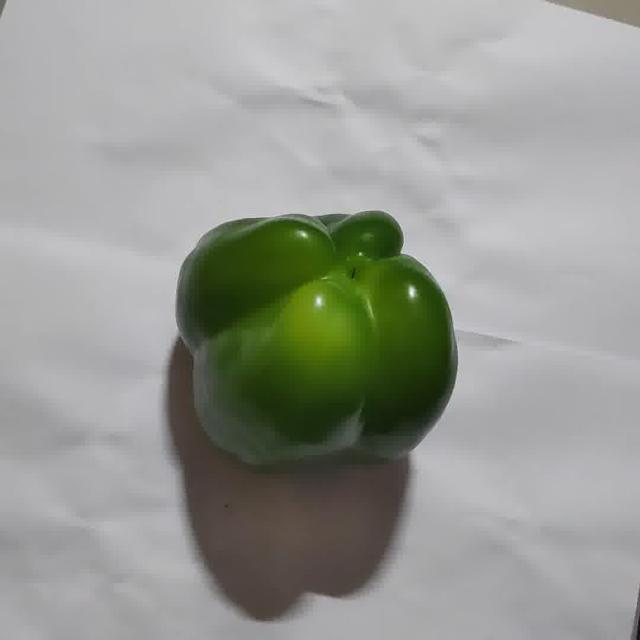Bell Pepper: (177, 212, 457, 466)
